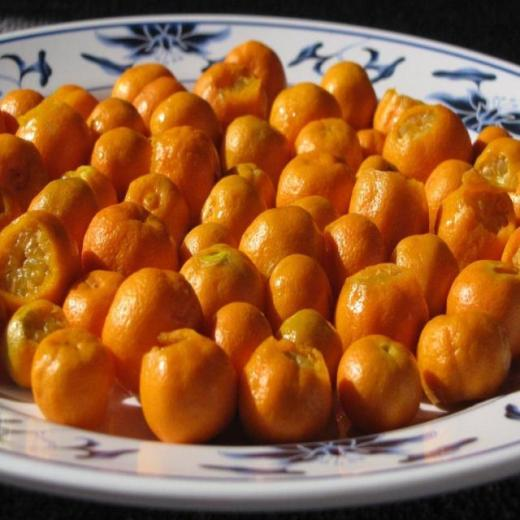Grape: (0, 39, 520, 446)
